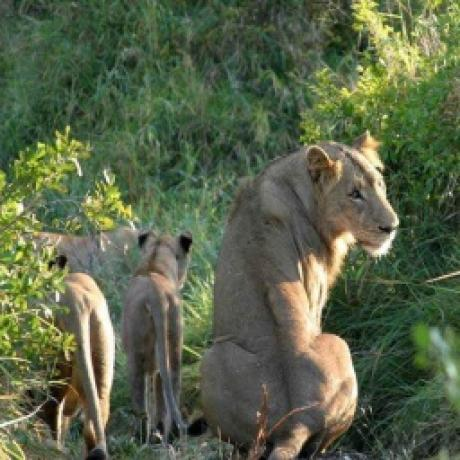Lion: (198, 124, 400, 460), (126, 228, 198, 446), (43, 251, 117, 460)
